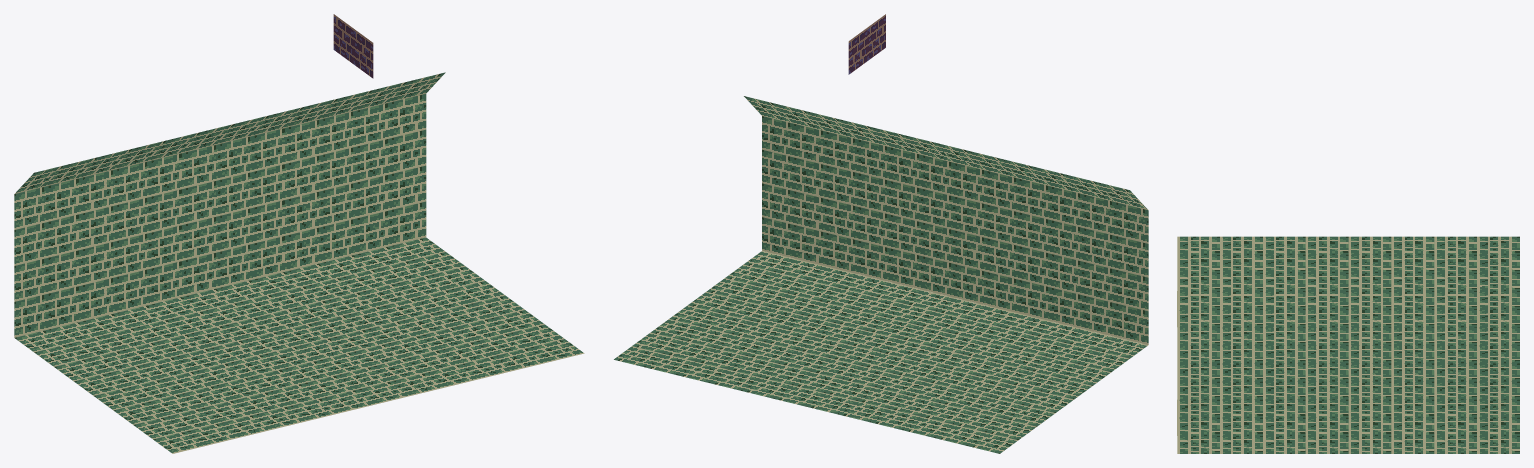
The model's file is Tunnel.gltf.
The picture shows the model from 3 angles, left to right: view 1: azimuth 30°, elevation 25°; view 2: azimuth 150°, elevation 25°; view 3: azimuth 270°, elevation 25°; orthographic projection. The views are drawn at different scales.
Size of the model in its own units: 12 by 9 by 8.
2 materials, 2 textured.
